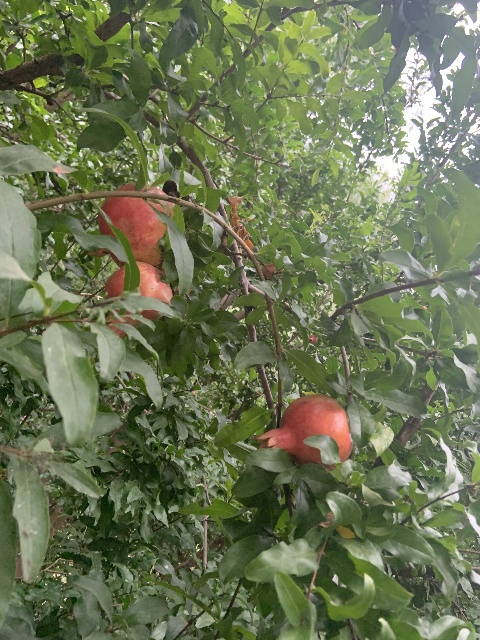ripe: (86, 182, 175, 267), (255, 394, 352, 467), (104, 261, 173, 338), (308, 334, 318, 343)
